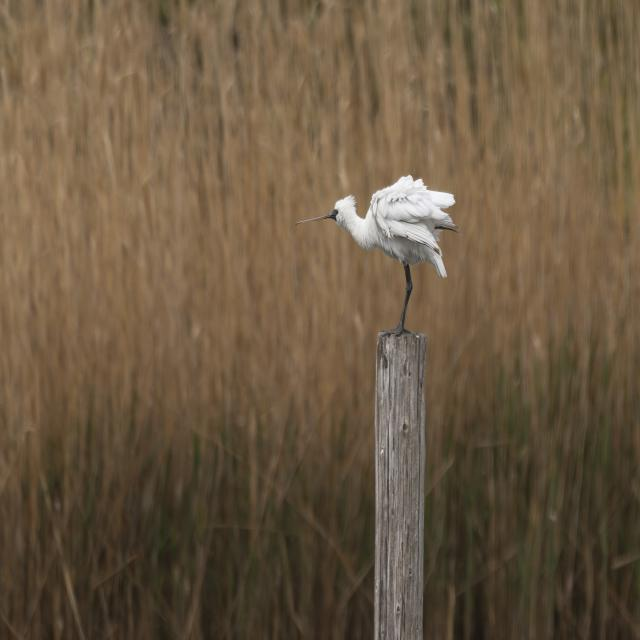Black-faced spoonbill: (297, 176, 457, 334)
